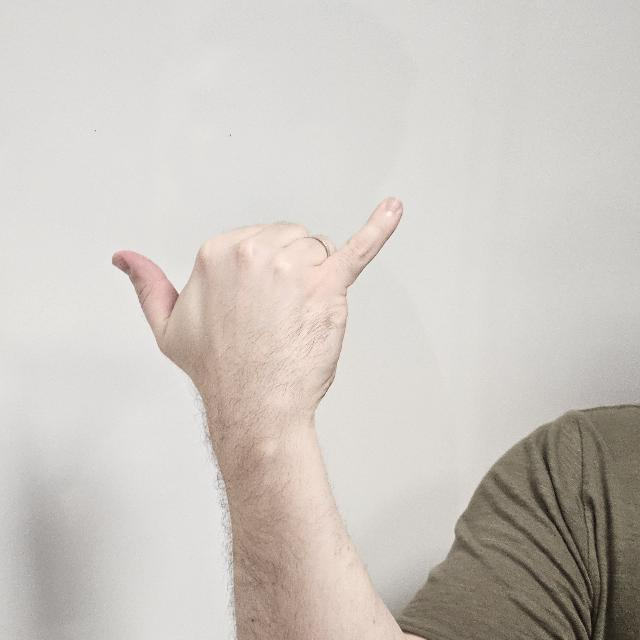Direita: (106, 198, 407, 428)
